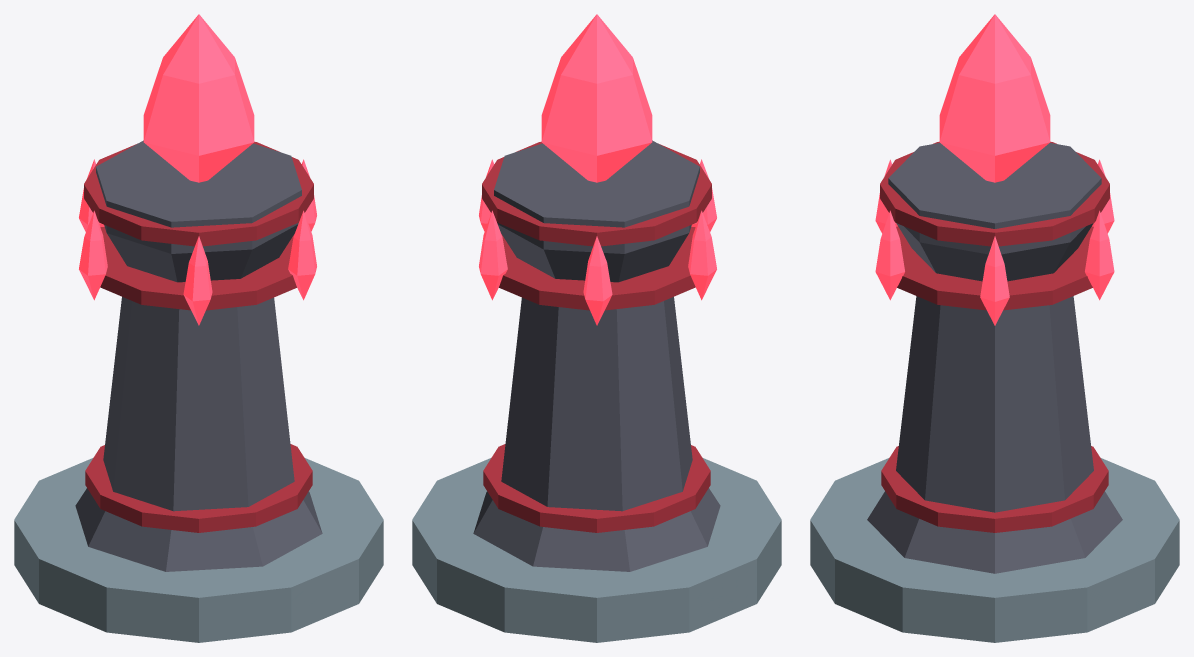
The model's file is tenebra_tower_candidate.glb.
3 renders of one model, left to right at view 1: azimuth 30°, elevation 25°; view 2: azimuth 150°, elevation 25°; view 3: azimuth 270°, elevation 25°, orthographic.
Parts seen in each view (by area): view 1: tenebra_tower; view 2: tenebra_tower; view 3: tenebra_tower.
Part boxes in pixels (bbox=[...]): tenebra_tower: bbox=[14, 14, 383, 642]; tenebra_tower: bbox=[412, 14, 781, 642]; tenebra_tower: bbox=[810, 14, 1179, 642].
Bounding box in the file's own units: 5.2 × 8.55 × 5.2.
